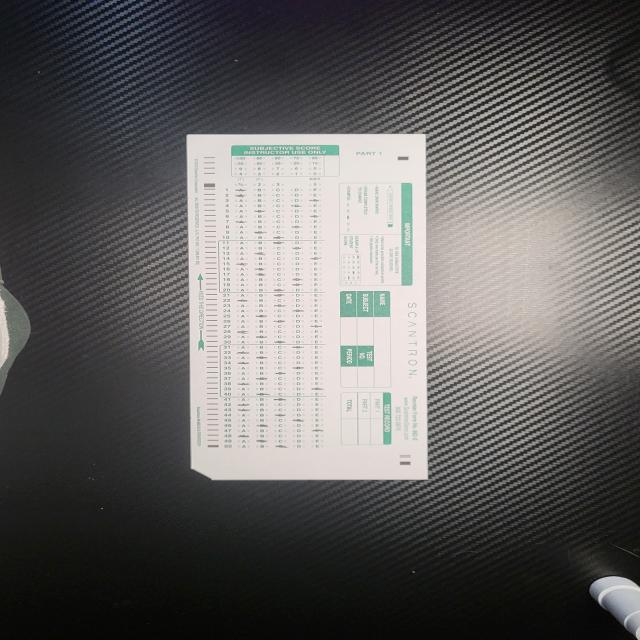scantron: (187, 134, 429, 480)
